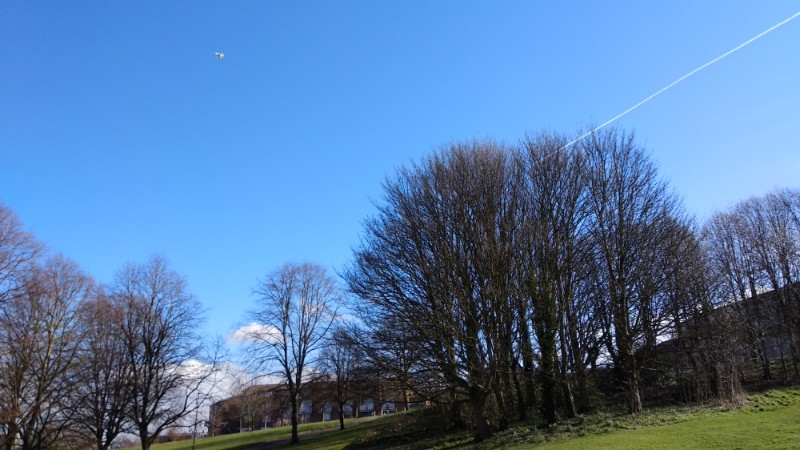drone: (213, 49, 226, 59)
